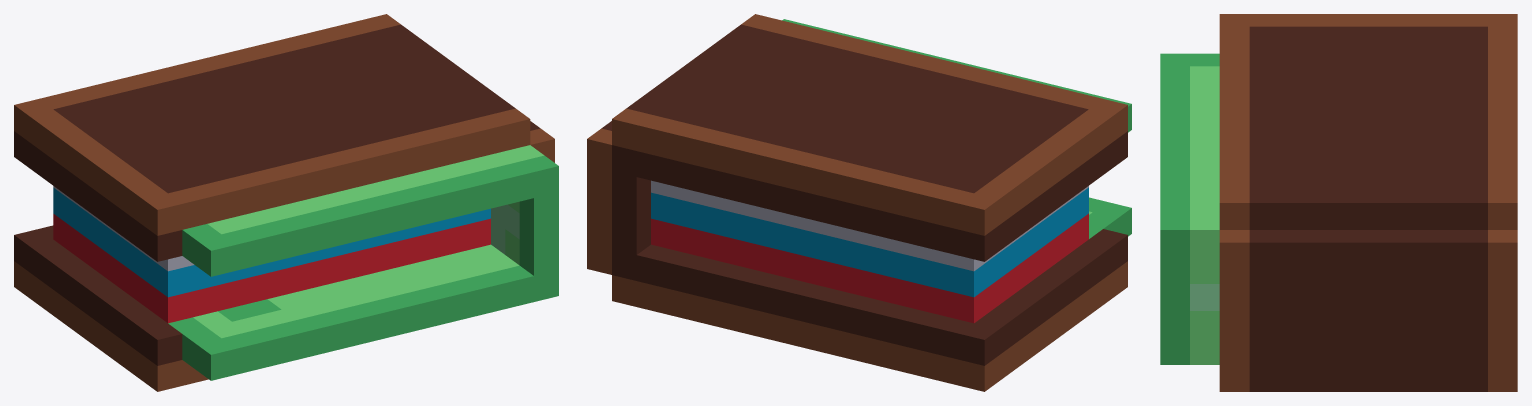
Rendered from wallet.glb.
3 renders of one model, left to right at view 1: azimuth 30°, elevation 25°; view 2: azimuth 150°, elevation 25°; view 3: azimuth 270°, elevation 25°, orthographic. The views are drawn at different scales.
Parts seen in each view (by area): view 1: model; view 2: model; view 3: model.
Part boxes in pixels (x1,y1,x2,y2): model: [14, 14, 558, 391]; model: [587, 14, 1131, 391]; model: [1160, 14, 1517, 391].
Bounding box in the file's own units: 1.6 × 0.7 × 1.2.
